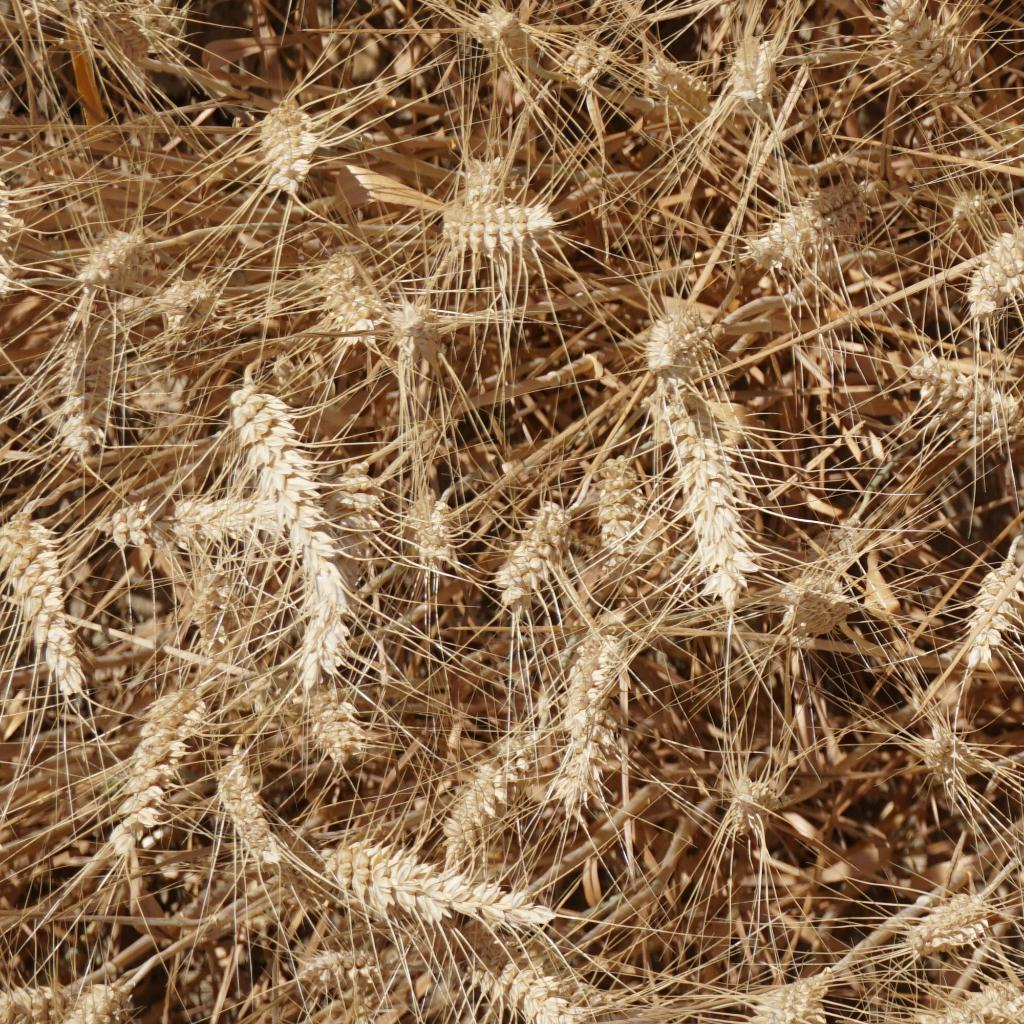0-0: (233, 387, 365, 678), (658, 380, 766, 614), (327, 835, 546, 932), (0, 521, 91, 700), (713, 172, 870, 274), (105, 674, 188, 853), (484, 482, 580, 615), (880, 0, 988, 116), (98, 482, 265, 551), (460, 954, 618, 1024), (45, 308, 112, 448), (442, 190, 580, 251), (590, 446, 658, 567), (547, 707, 621, 817), (248, 92, 332, 188), (556, 611, 632, 716), (635, 39, 733, 120), (393, 486, 469, 587), (951, 223, 1024, 328), (415, 749, 500, 837), (69, 214, 163, 292), (945, 559, 1024, 651), (211, 756, 275, 868), (920, 358, 1008, 439), (896, 891, 995, 955), (719, 31, 796, 113), (153, 265, 234, 339), (311, 251, 384, 332), (644, 303, 709, 378), (294, 944, 384, 998), (713, 769, 779, 839), (780, 570, 856, 630), (304, 687, 368, 755), (453, 0, 520, 62), (556, 32, 618, 98), (935, 180, 999, 239), (113, 0, 201, 41), (934, 979, 1013, 1024), (129, 351, 190, 409), (918, 718, 969, 784), (384, 294, 435, 359), (746, 976, 813, 1024), (54, 982, 128, 1020), (453, 157, 510, 204), (0, 972, 56, 1018)
